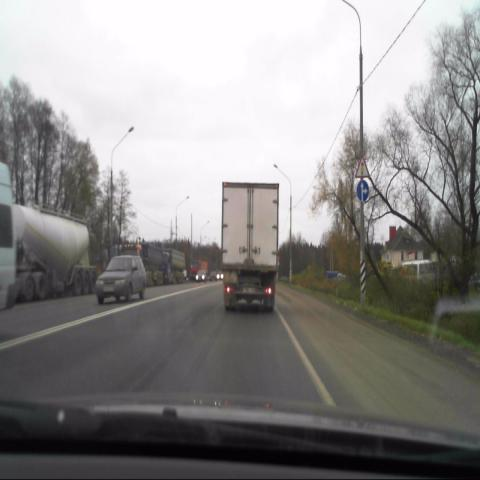4_1_4: (355, 180, 370, 204)
